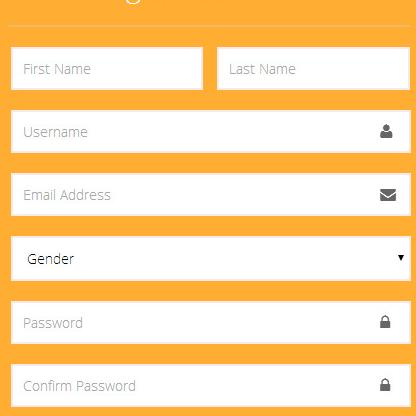field: (10, 299, 412, 346), (9, 172, 414, 218), (10, 362, 412, 408), (9, 109, 412, 154), (215, 45, 411, 92), (10, 45, 204, 90)
